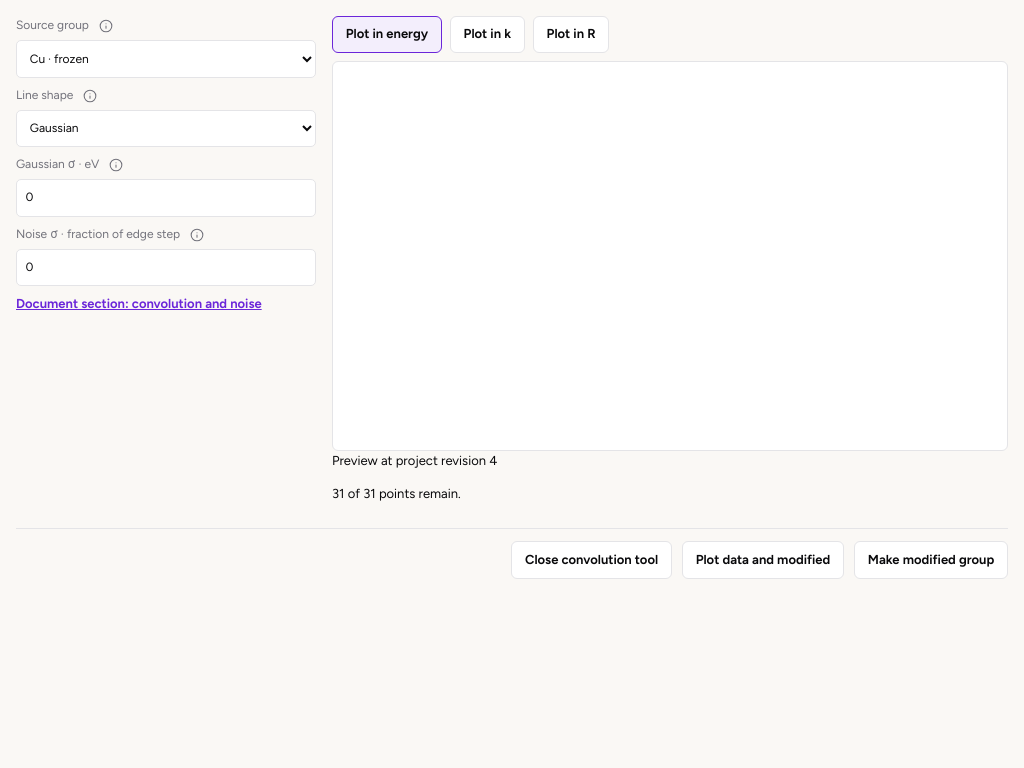
it: rejects invalid widths -1 without starting a new request
The width and height of the screenshot is (1024, 768).
Check: the button "Make modified group" is enabled, box [854,541,1008,579]
Replace the text in the number field labelled "Gaussian σ · eV" with "-1". click: (166,198)
box: [16,179,316,217]
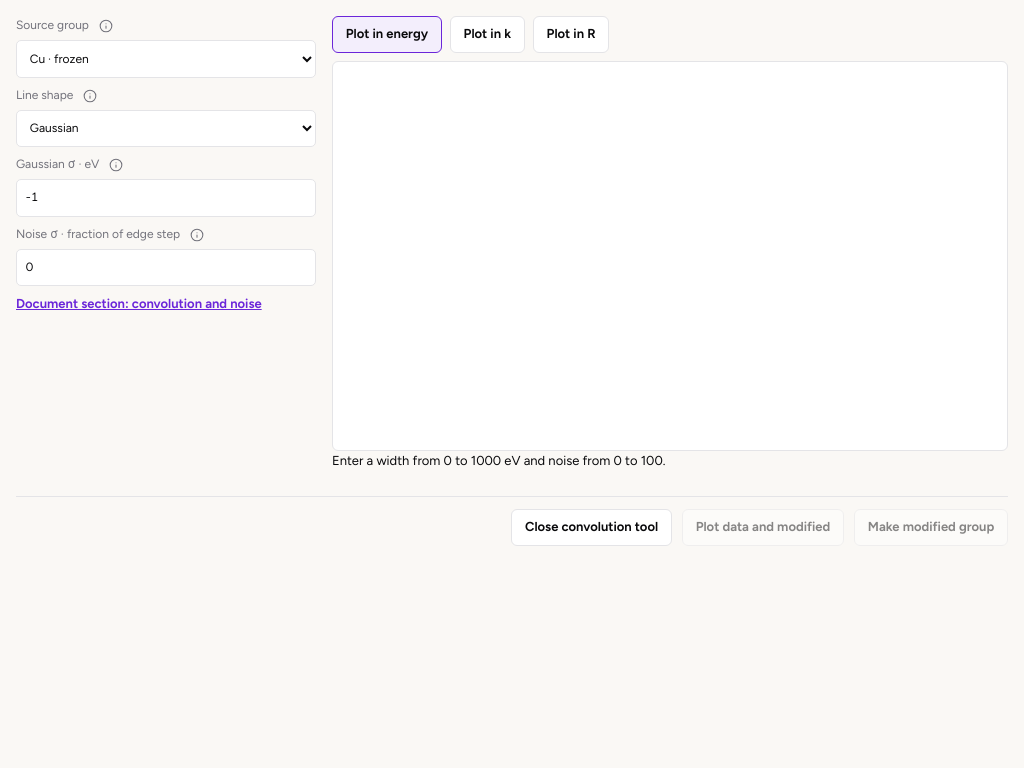
Check: the button "Make modified group" is disabled, box [854,509,1008,546]
Check: the text "Enter a width from 0 to 1000 eV and noise from 0 to 100." is shown, box [332,453,666,468]
